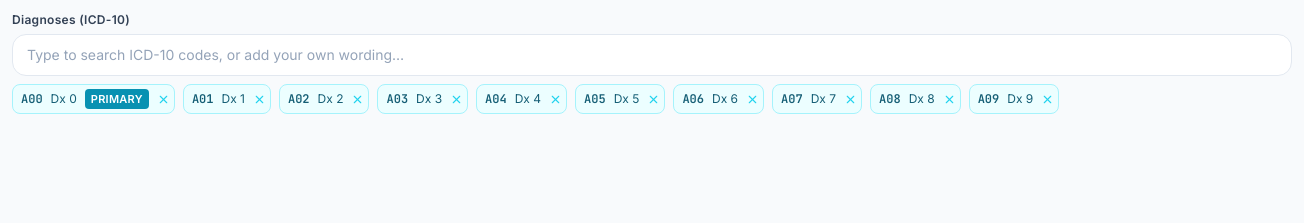
IcdDiagnosisPicker › blocks an 11th code with a hint
Step 1. Type "E11" into the dropdown labelled "Diagnoses (ICD-10)" → coordinates (652, 55), box x1=12 y1=34 x2=1292 y2=76
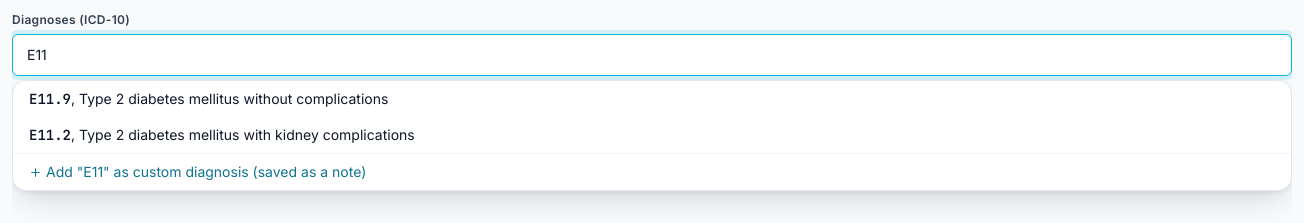
Step 2. Click the option "E11.9, Type 2 diabetes mellitus without complications" → coordinates (50, 99), box x1=13 y1=81 x2=1291 y2=117
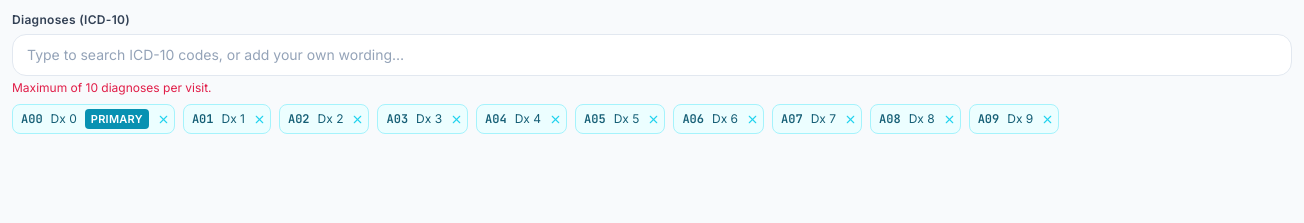
expect the option "E11.9" is gone: met
expect the text "Maximum of 10 diagnoses per visit." is shown: met, box x1=12 y1=80 x2=212 y2=95
